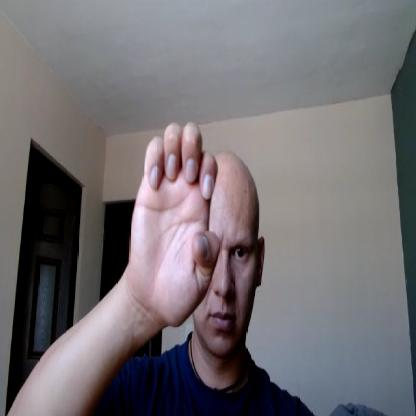E: (130, 122, 220, 326)
